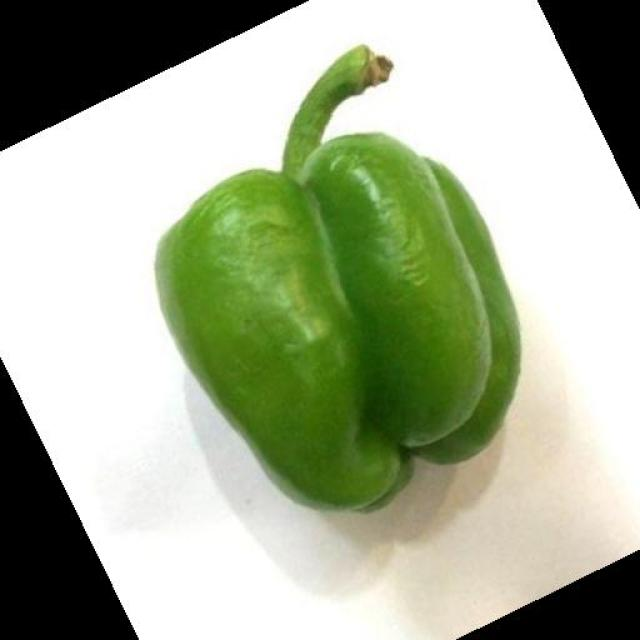Fresh_Capsicum: (127, 56, 515, 470)
